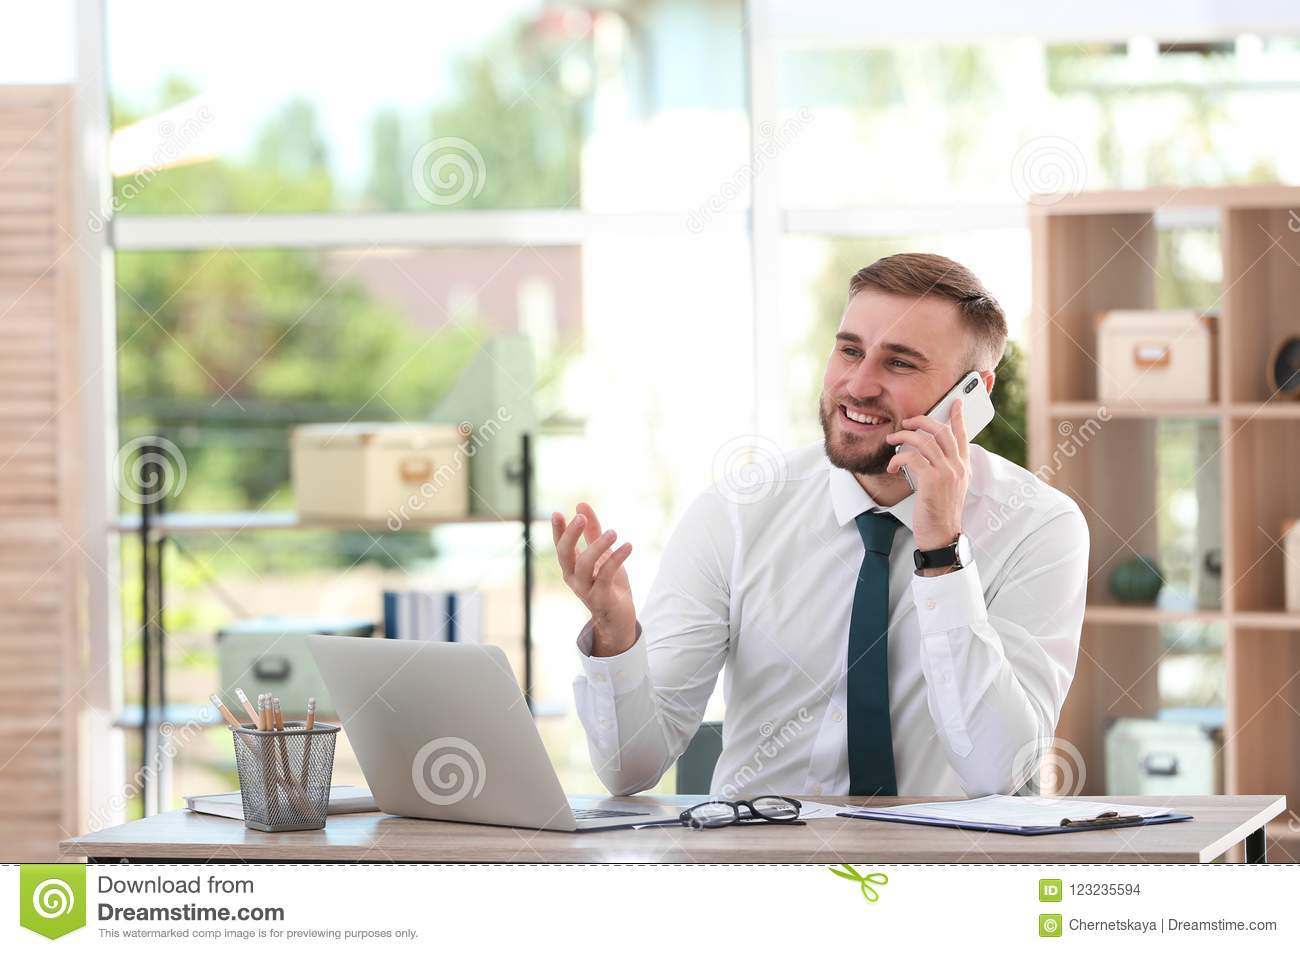phone: (897, 369, 995, 494)
talk: (822, 321, 996, 540)
